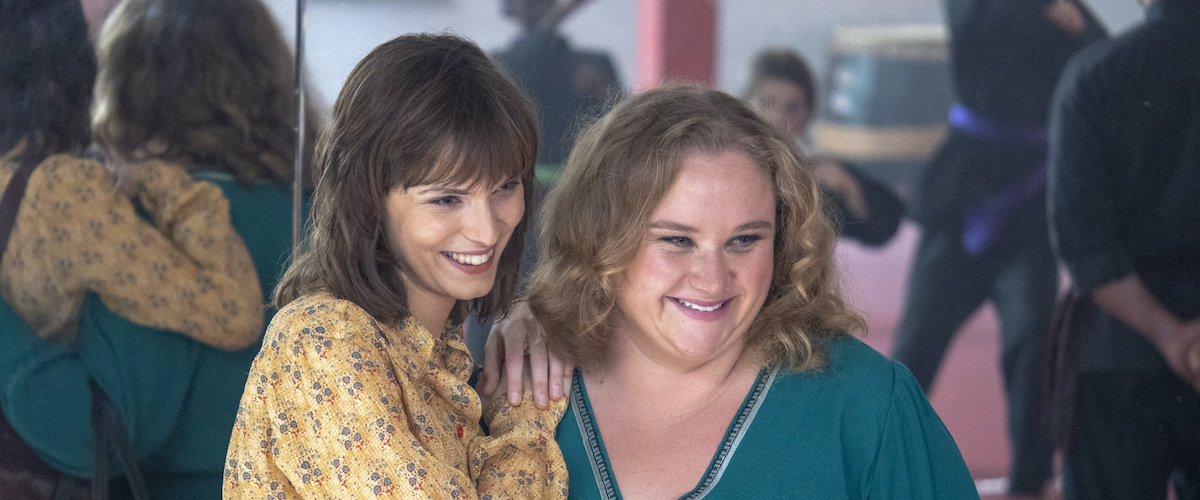Without Helmet: (556, 86, 814, 385), (322, 25, 555, 320)
